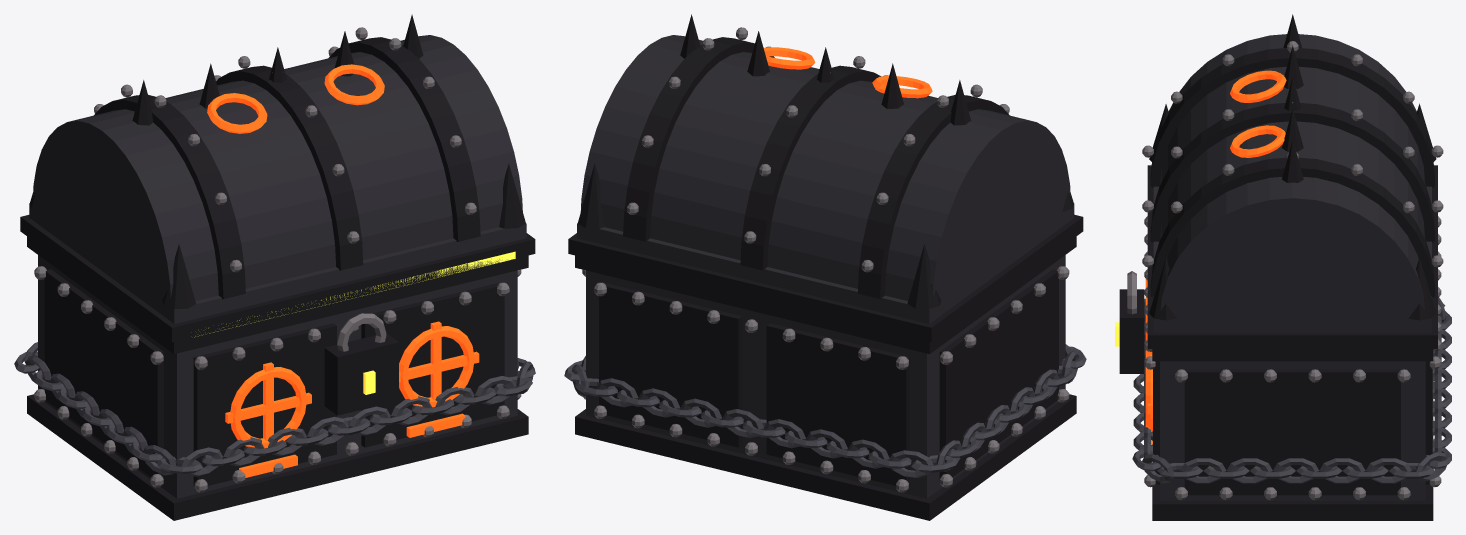
File: boss_chest_brander.glb
3 renders of one model, left to right at view 1: azimuth 30°, elevation 25°; view 2: azimuth 150°, elevation 25°; view 3: azimuth 270°, elevation 25°, orthographic. The views are drawn at different scales.
Parts seen in each view (by area): view 1: Lid, Body; view 2: Lid, Body; view 3: Lid, Body.
Boxes of the visible parts, x1=… form: Lid: x1=20, y1=14, x2=535, y2=342; Body: x1=14, y1=236, x2=535, y2=520; Lid: x1=568, y1=14, x2=1083, y2=342; Body: x1=564, y1=236, x2=1086, y2=520; Lid: x1=1142, y1=14, x2=1443, y2=349; Body: x1=1115, y1=216, x2=1451, y2=520.
Bounding box in the file's own units: 1.4 × 1.29 × 1.09.
